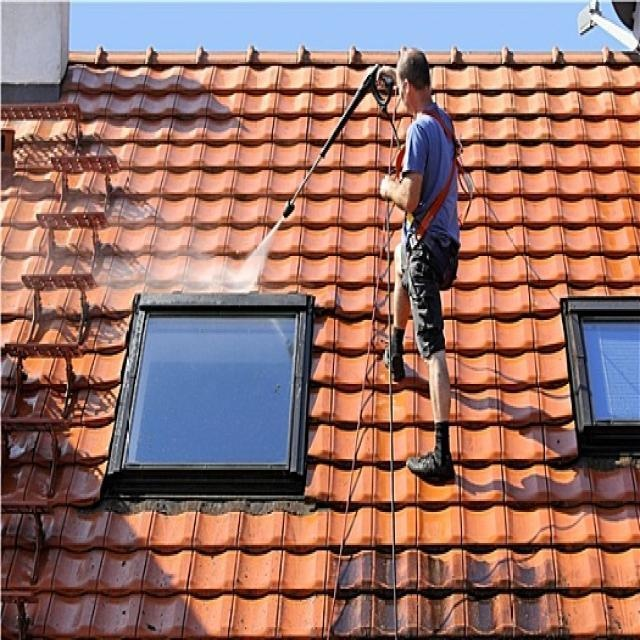Arnes_seguridad: (391, 101, 467, 242)
